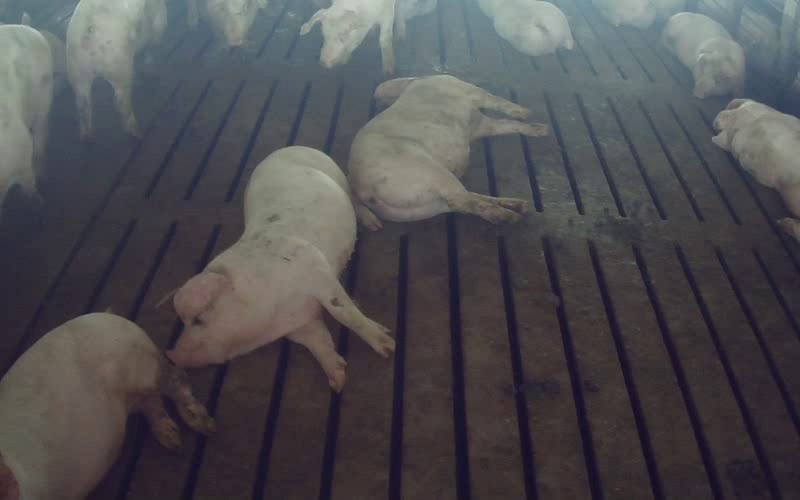pig: (167, 147, 394, 391), (0, 313, 214, 499), (349, 75, 547, 222), (66, 0, 166, 137), (712, 100, 799, 241), (0, 12, 52, 211), (662, 12, 744, 97), (300, 0, 394, 73), (479, 0, 573, 55)
